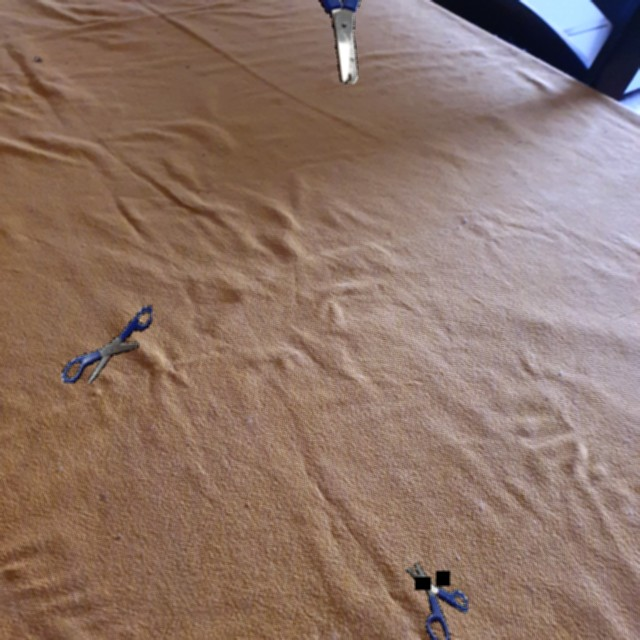scissors: (291, 0, 380, 84), (61, 305, 152, 383), (406, 563, 468, 640)
